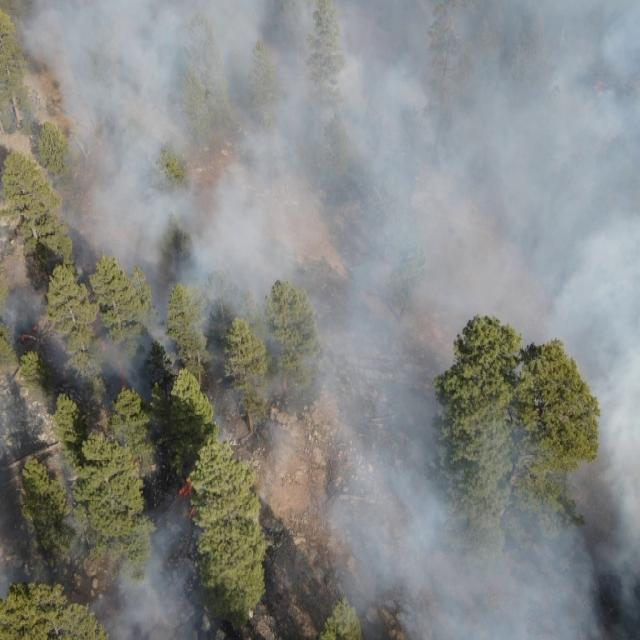fire: (98, 342, 128, 388), (178, 478, 198, 522), (16, 323, 40, 345), (594, 77, 606, 95)
smoke: (0, 0, 640, 640)
